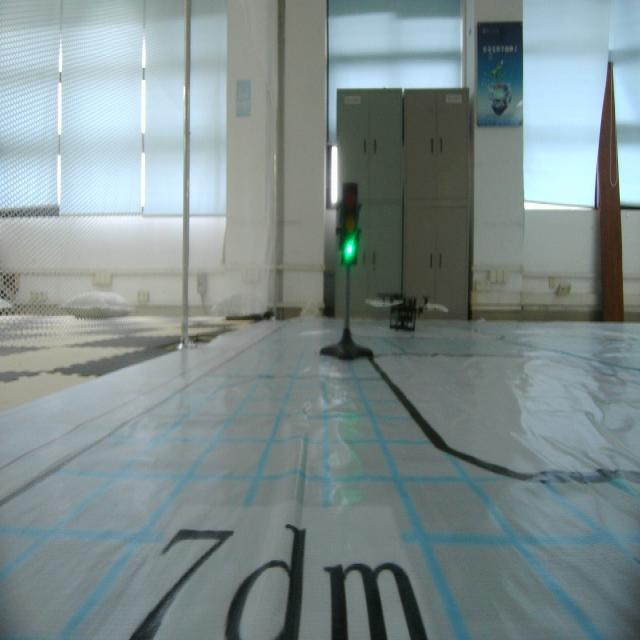green: (339, 182, 361, 270)
